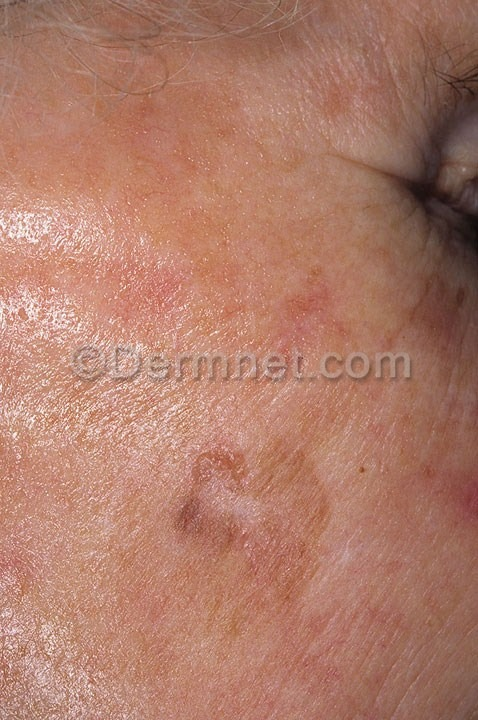Melasma: (153, 406, 394, 667), (181, 193, 369, 342), (416, 443, 478, 547)
